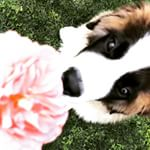puppy: (51, 2, 150, 129)
